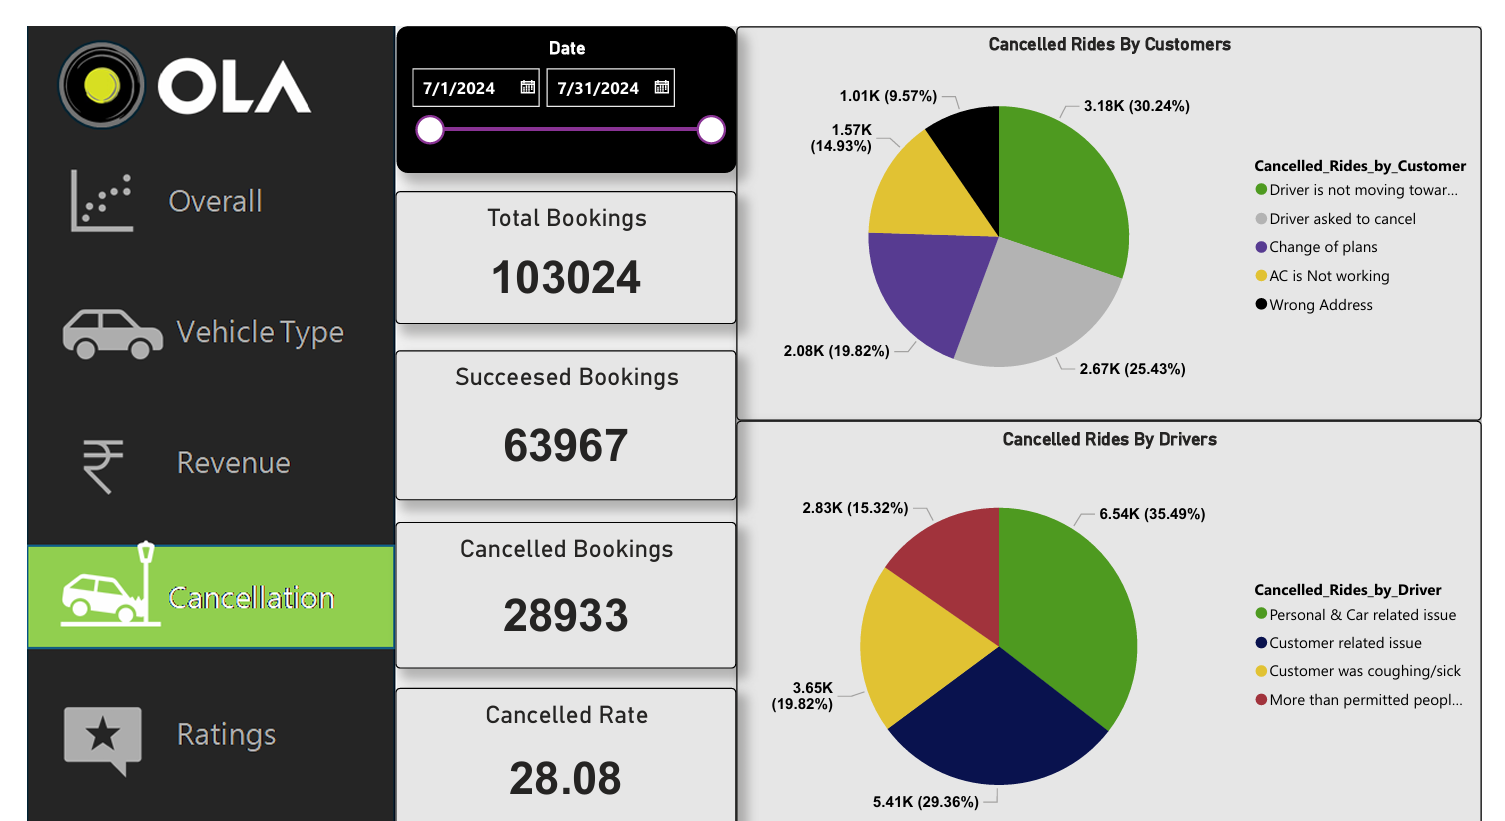

The page's visual inventory and layout, read from the dashboard file:
{"tool":"powerbi","page":{"name":"Cancellation","canvas":[1280,720],"ordinal":3},"visuals":[{"type":"actionButton","box":[0,211.6,324.5,92.3],"z":0},{"type":"actionButton","box":[0,326.1,324.5,98.6],"z":1},{"type":"actionButton","box":[4.8,564.7,314.9,141.6],"z":2},{"type":"actionButton","box":[0,112.9,324.5,85.9],"z":3},{"type":"pieChart","title":"Cancelled Rides By Customers","fields":{"Y":["CountNonNull(July.Canceled_Rides_by_Customer)"],"Category":["July.Canceled_Rides_by_Customer"]},"box":[623.5,0,656.9,346.8],"z":4},{"type":"pieChart","title":"Cancelled Rides By Drivers","fields":{"Y":["CountNonNull(July.Canceled_Rides_by_Driver)"],"Category":["July.Canceled_Rides_by_Driver"]},"box":[623.5,346.8,656.9,373.8],"z":5},{"type":"slicer","title":"Date","fields":{"Values":["July.Date"]},"box":[325,0,298.6,128.5],"z":6},{"type":"card","title":"Total Bookings","fields":{"Values":["CountNonNull(July.Booking_ID)"]},"box":[324.5,144.7,299,117.7],"z":7},{"type":"card","title":"Succeesed Bookings","fields":{"Values":["CountNonNull(July.Booking_Value)"]},"box":[324.5,284.7,299,132],"z":8},{"type":"card","title":"Cancelled Bookings","fields":{"Values":["CountNonNull(July.Booking_Value)"]},"box":[324.5,435.8,299,128.8],"z":9},{"type":"card","title":"Cancelled Rate","fields":{"Values":["July.CancelledBookingPerct"]},"box":[324.5,582.2,299,124.1],"z":10}]}

Visuals, with their boxes on the page's 1280x720 design canvas (x1, y1, x2, y2). These are canvas units, not pixel positions in the 1505x821 screenshot, which may show the page scaled, cropped or inside an application window:
actionButton: (0,212,324,304)
actionButton: (0,326,324,425)
actionButton: (5,565,320,706)
actionButton: (0,113,324,199)
"Cancelled Rides By Customers" pieChart: (624,0,1280,347)
"Cancelled Rides By Drivers" pieChart: (624,347,1280,721)
"Date" slicer: (325,0,624,128)
"Total Bookings" card: (324,145,624,262)
"Succeesed Bookings" card: (324,285,624,417)
"Cancelled Bookings" card: (324,436,624,565)
"Cancelled Rate" card: (324,582,624,706)
